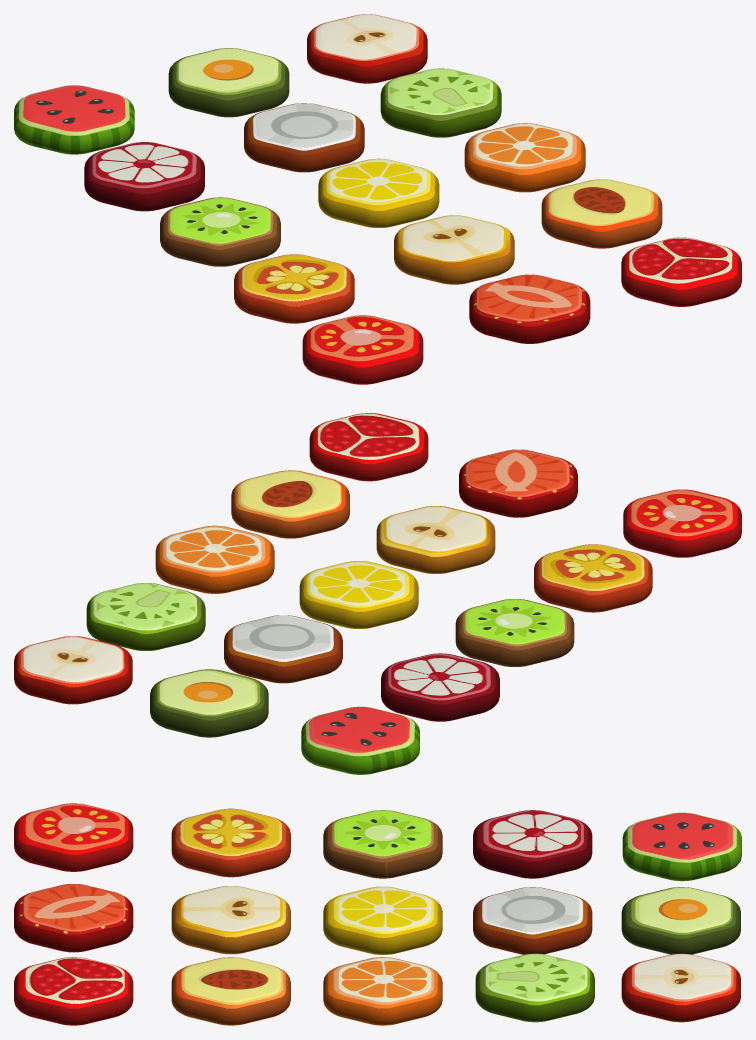
The model's file is fruit_6.fbx.
The picture shows the model from 3 angles, top to bottom: view 1: azimuth 30°, elevation 25°; view 2: azimuth 150°, elevation 25°; view 3: azimuth 270°, elevation 25°; orthographic projection.
Parts seen in each view (by area): view 1: Circle.002, Circle.009, Circle.003, Circle.014, Circle.015, Circle.010, Circle.008, Circle.007, Circle.004, Circle.011, Circle.012, Circle.006 (+3 smaller); view 2: Circle.013, Circle.009, Circle.011, Circle.007, Circle.008, Circle.001, Circle.005, Circle.015, Circle.012, Circle.004, Circle.010, Circle.014 (+3 smaller); view 3: Circle.004, Circle.001, Circle.007, Circle.003, Circle.009, Circle.008, Circle.010, Circle.012, Circle.011, Circle.014, Circle.006, Circle.013 (+3 smaller).
Part boxes in pixels (left/top/right/bottom): Circle.002: left=168, top=48, right=289, bottom=117; Circle.009: left=464, top=123, right=585, bottom=192; Circle.003: left=380, top=68, right=501, bottom=137; Circle.014: left=469, top=274, right=590, bottom=343; Circle.015: left=302, top=315, right=423, bottom=384; Circle.010: left=541, top=179, right=662, bottom=248; Circle.008: left=318, top=158, right=439, bottom=227; Circle.007: left=160, top=197, right=280, bottom=266; Circle.004: left=14, top=85, right=134, bottom=154; Circle.011: left=394, top=215, right=514, bottom=284; Circle.012: left=234, top=254, right=354, bottom=323; Circle.006: left=84, top=142, right=204, bottom=211; Circle.013: left=309, top=413, right=428, bottom=481; Circle.009: left=155, top=525, right=274, bottom=593; Circle.011: left=376, top=506, right=495, bottom=573; Circle.007: left=455, top=599, right=574, bottom=666; Circle.008: left=299, top=561, right=418, bottom=628; Circle.001: left=14, top=636, right=132, bottom=704; Circle.005: left=224, top=615, right=342, bottom=683; Circle.015: left=623, top=489, right=741, bottom=557; Circle.012: left=534, top=544, right=652, bottom=612; Circle.004: left=301, top=706, right=419, bottom=774; Circle.010: left=231, top=470, right=349, bottom=538; Circle.014: left=459, top=449, right=577, bottom=517; Circle.004: left=622, top=812, right=741, bottom=881; Circle.001: left=621, top=953, right=740, bottom=1022; Circle.007: left=323, top=810, right=442, bottom=878; Circle.003: left=475, top=953, right=594, bottom=1022; Circle.009: left=323, top=957, right=442, bottom=1025; Circle.008: left=323, top=886, right=442, bottom=954; Circle.010: left=171, top=957, right=290, bottom=1025; Circle.012: left=171, top=808, right=290, bottom=877; Circle.011: left=171, top=886, right=290, bottom=954; Circle.014: left=14, top=884, right=133, bottom=952; Circle.006: left=473, top=810, right=592, bottom=878; Circle.013: left=14, top=957, right=133, bottom=1025.
Size of the model in its own units: 2860 by 152 by 4239.
Materials: 15 (15 with a texture image).
